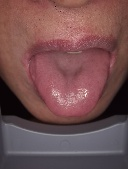tongue: (28, 56, 110, 117)
